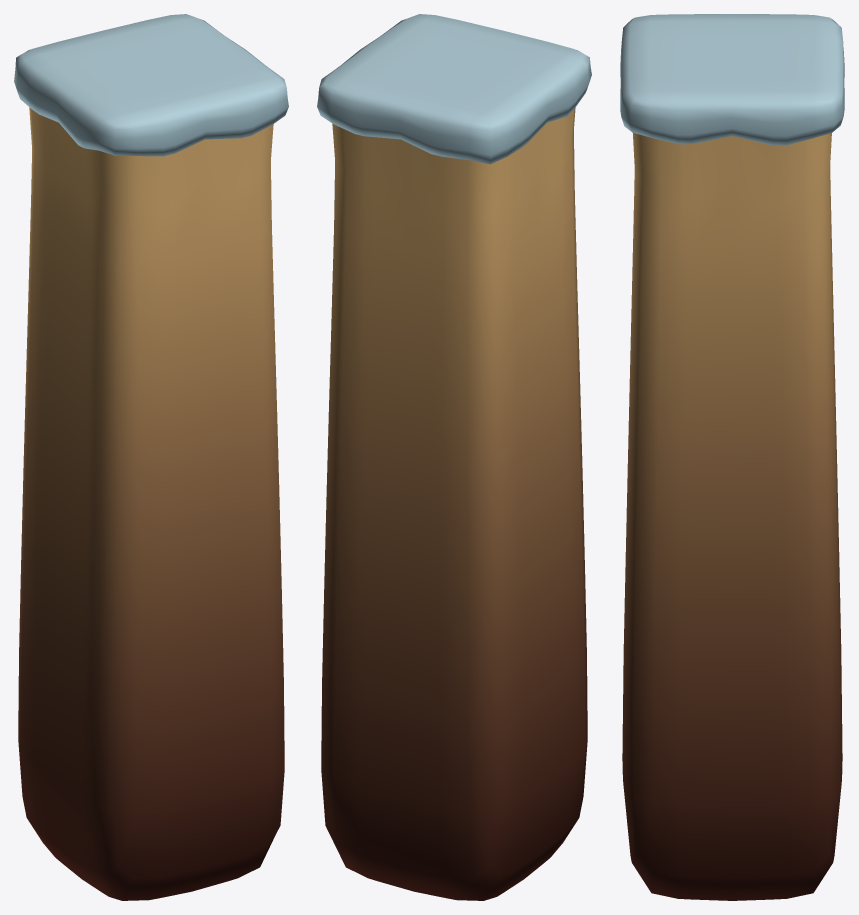
File: TileSnow_8m.fbx
The picture shows the model from 3 angles, left to right: view 1: azimuth 30°, elevation 25°; view 2: azimuth 150°, elevation 25°; view 3: azimuth 270°, elevation 25°; orthographic projection.
Visible parts, largest first — view 1: TileSnow_8m; view 2: TileSnow_8m; view 3: TileSnow_8m.
Boxes of the visible parts, bbox=[...] form: TileSnow_8m: bbox=[14, 14, 288, 900]; TileSnow_8m: bbox=[317, 14, 591, 900]; TileSnow_8m: bbox=[620, 14, 844, 900].
Bounding box in the file's own units: 2 × 8 × 2.
